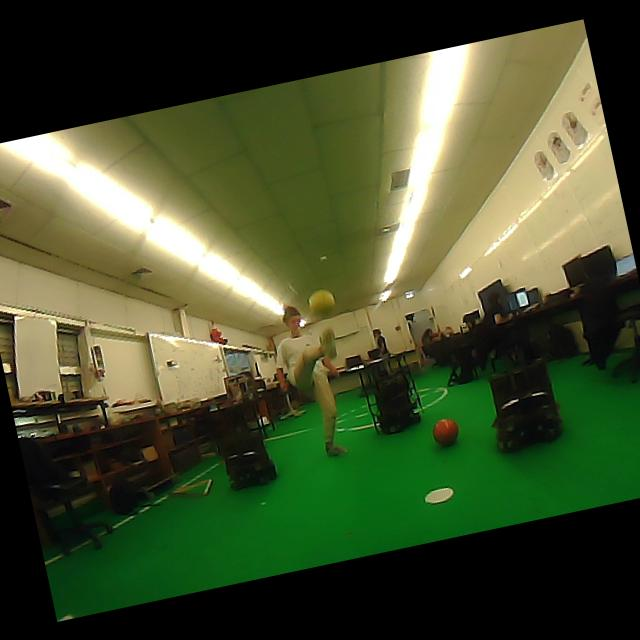ball: (432, 419, 458, 446), (308, 289, 335, 314)
robot: (489, 359, 563, 449), (211, 400, 276, 490), (358, 352, 422, 434)
